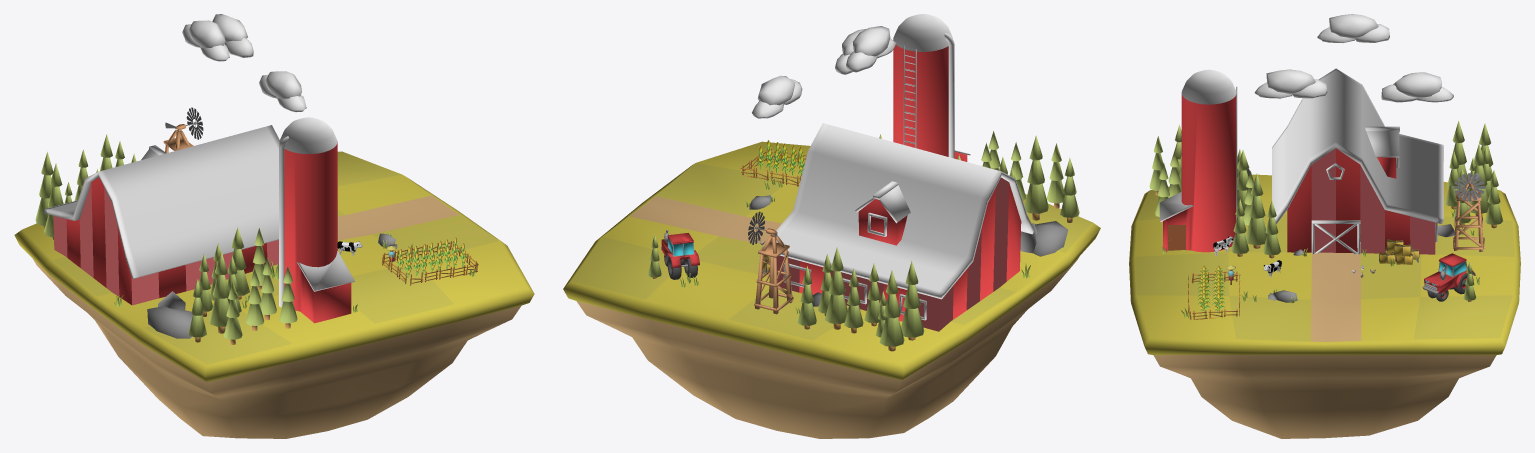
The model's file is Low Poly Farm.fbx.
The picture shows the model from 3 angles, left to right: view 1: azimuth 30°, elevation 25°; view 2: azimuth 150°, elevation 25°; view 3: azimuth 270°, elevation 25°; orthographic projection. The views are drawn at different scales.
Parts seen in each view (by area): view 1: Cube_006, Cube_049, Cylinder_000, Cube_015, Plane_001, Icosphere_00_005, Cube_047, Cube_021, Torus_000, Cube_044, Cube_048, Cube_045 (+6 smaller); view 2: Cube_006, Cube_049, Cylinder_000, Cube_015, Torus_000, Cube_007, Cube_047, Cube_044, Cube_013, Cube_038, Icosphere_00_005, Plane_001 (+6 smaller); view 3: Cube_006, Cube_049, Cylinder_000, Cube_015, Torus_000, Cube_007, Cube_000, Plane_001, Cube_009, Cube_013, Cube_002, Cube_012 (+7 smaller).
Part boxes in pixels (box(x1,y1,x2,y2)): Cube_006: box(14, 151, 534, 438); Cube_049: box(44, 125, 279, 305); Cylinder_000: box(279, 117, 354, 323); Cube_015: box(182, 14, 306, 112); Plane_001: box(396, 237, 466, 277); Icosphere_00_005: box(147, 306, 192, 338); Cube_047: box(209, 251, 229, 333); Cube_021: box(381, 241, 478, 285); Torus_000: box(163, 107, 203, 152); Cube_044: box(35, 152, 53, 229); Cube_048: box(231, 227, 249, 299); Cube_045: box(223, 282, 242, 344); Cube_006: box(563, 141, 1100, 438); Cube_049: box(762, 123, 1034, 331); Cylinder_000: box(893, 14, 970, 161); Cube_015: box(752, 26, 896, 118); Torus_000: box(748, 211, 793, 314); Cube_007: box(661, 230, 699, 279); Cube_047: box(1024, 135, 1048, 220); Cube_044: box(879, 270, 904, 351); Cube_013: box(825, 247, 847, 329); Cube_038: box(901, 260, 924, 340); Icosphere_00_005: box(1033, 221, 1068, 256); Plane_001: box(757, 140, 808, 175); Cube_006: box(1129, 174, 1520, 438); Cube_049: box(1272, 68, 1443, 254); Cylinder_000: box(1159, 69, 1237, 252); Cube_015: box(1254, 14, 1453, 102); Torus_000: box(1453, 172, 1485, 251); Cube_007: box(1422, 253, 1475, 301); Cube_000: box(1246, 173, 1267, 248); Plane_001: box(1197, 265, 1224, 315); Cube_009: box(1379, 239, 1419, 264); Cube_013: box(1468, 143, 1489, 216); Cube_002: box(1262, 200, 1280, 258); Cube_012: box(1485, 170, 1502, 228).
Size of the model in its own units: 2.05 by 2.06 by 1.99.
